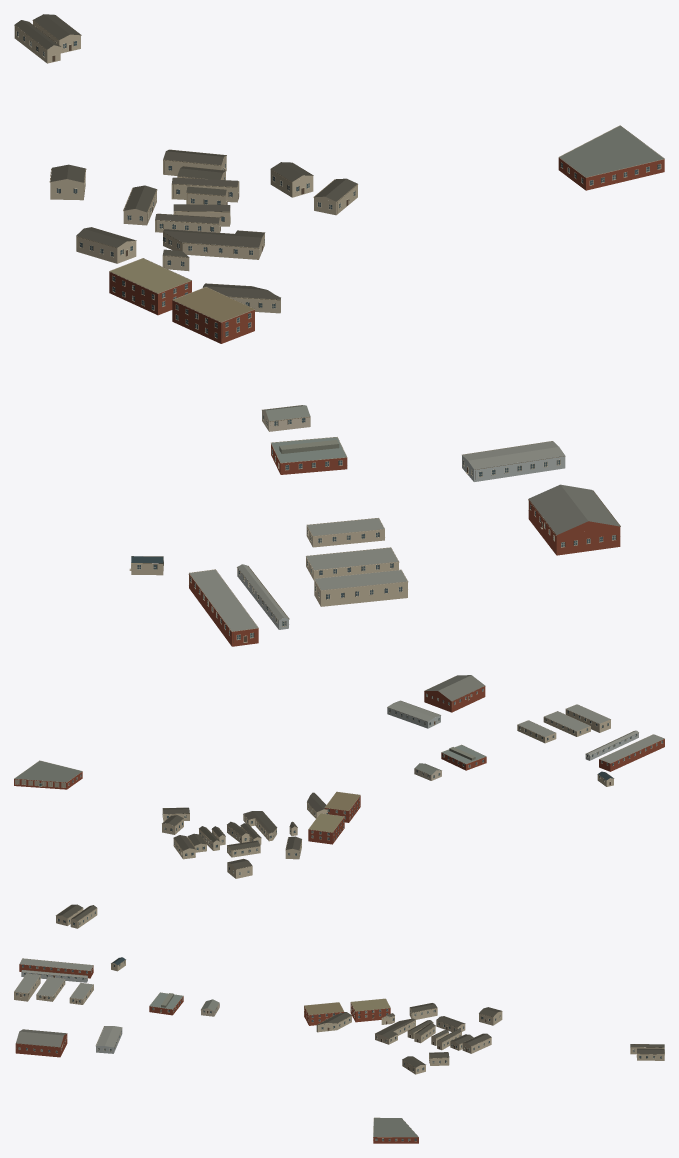
The picture shows the model from 3 angles, top to bottom: view 1: azimuth 30°, elevation 25°; view 2: azimuth 150°, elevation 25°; view 3: azimuth 270°, elevation 25°; orthographic projection. The views are drawn at different scales.
Visible parts, largest first — view 1: 1_-4_598632856_0, 1_-4_598635159_5, 1_-4_598635155_3; view 2: 1_-4_598632856_0, 1_-4_598635159_5, 1_-4_598635155_3; view 3: 1_-4_598632856_0, 1_-4_598635159_5, 1_-4_598635155_3.
Part boxes in pixels (<box>): 1_-4_598632856_0: <box>14,14,664,646</box>; 1_-4_598635159_5: <box>14,20,407,606</box>; 1_-4_598635155_3: <box>237,455,565,629</box>; 1_-4_598632856_0: <box>14,675,664,927</box>; 1_-4_598635159_5: <box>56,709,613,928</box>; 1_-4_598635155_3: <box>387,707,638,760</box>; 1_-4_598632856_0: <box>14,957,664,1143</box>; 1_-4_598635159_5: <box>14,960,664,1074</box>; 1_-4_598635155_3: <box>21,972,122,1053</box>.
Size of the model in its own units: 308 by 22.16 by 440.
